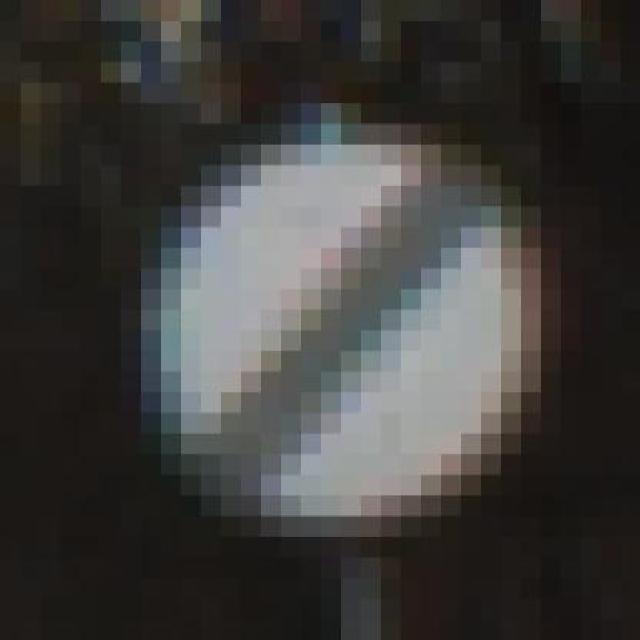End of all speed and passing limits: (100, 103, 560, 537)
